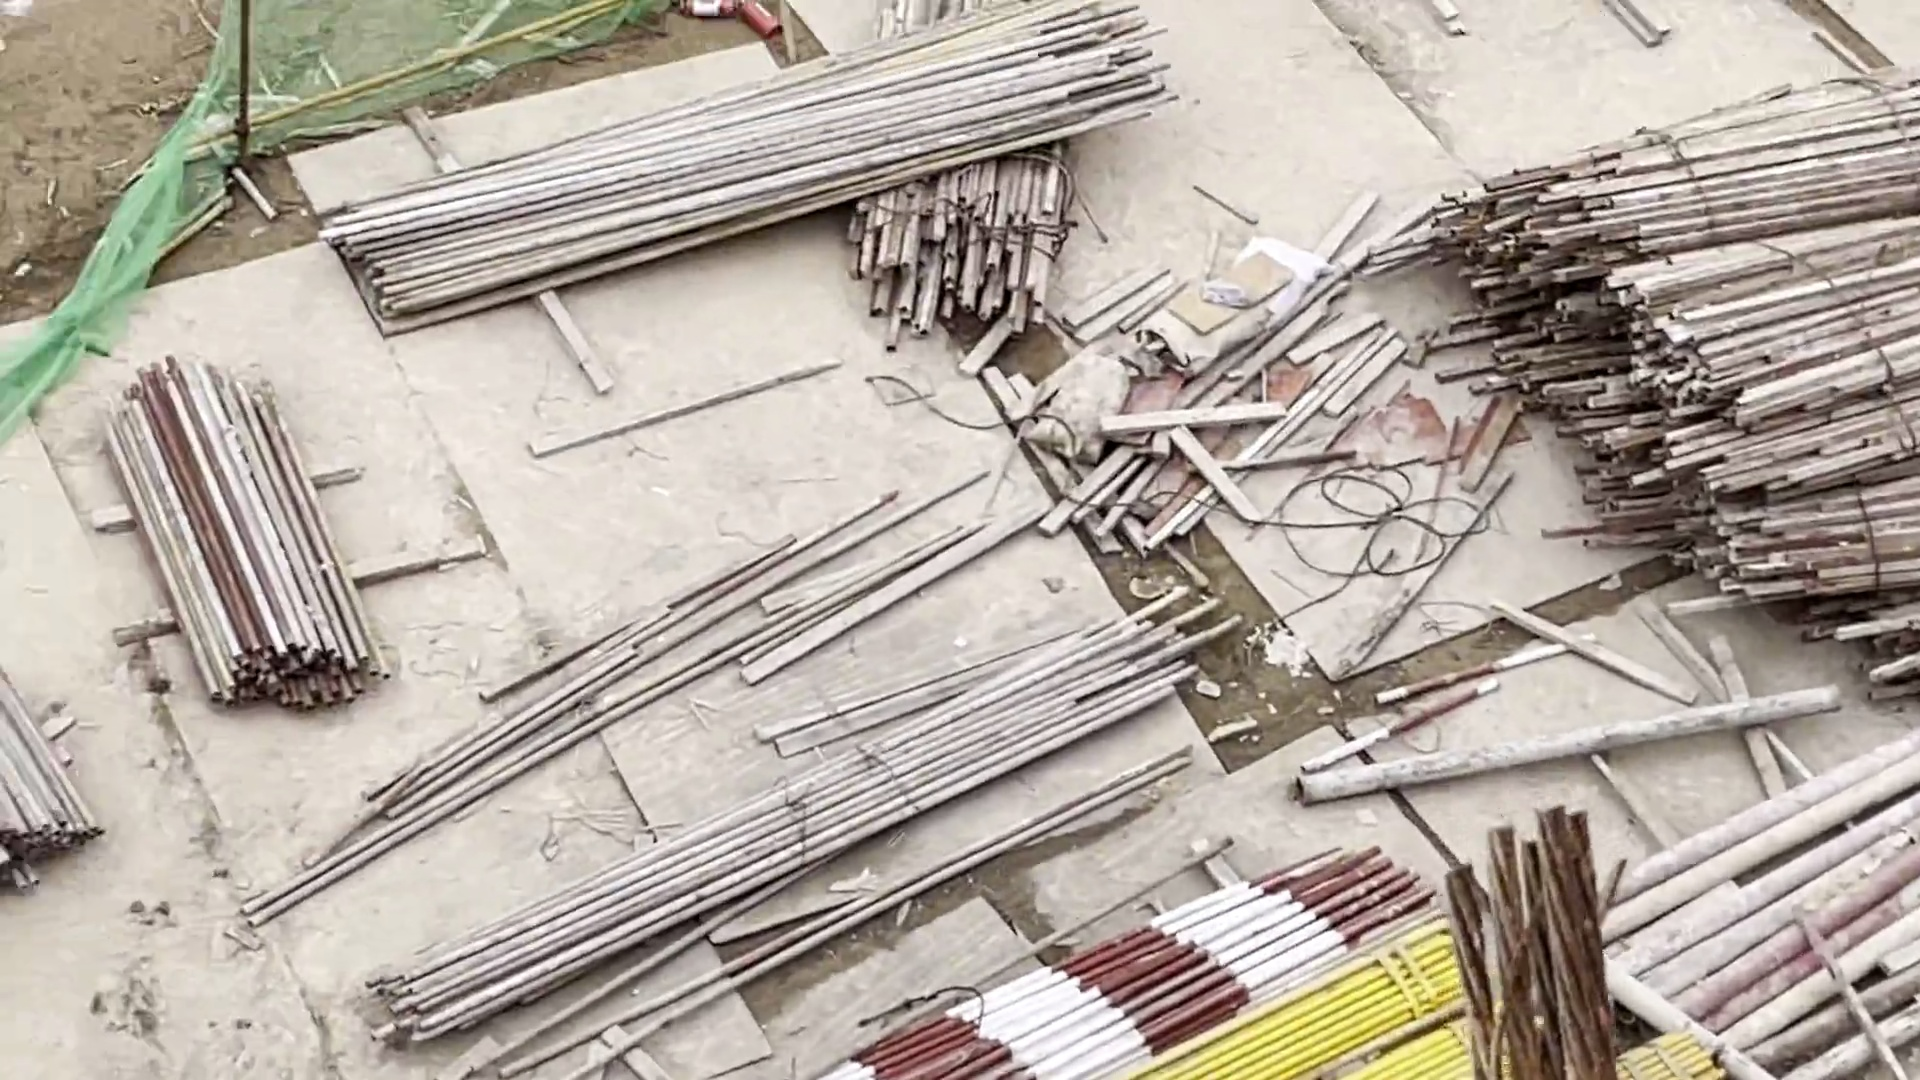wood: (327, 1, 1168, 342), (95, 353, 384, 716), (1431, 67, 1920, 258), (1571, 231, 1920, 400), (1697, 410, 1920, 618), (848, 142, 1077, 331), (1, 680, 109, 905)
